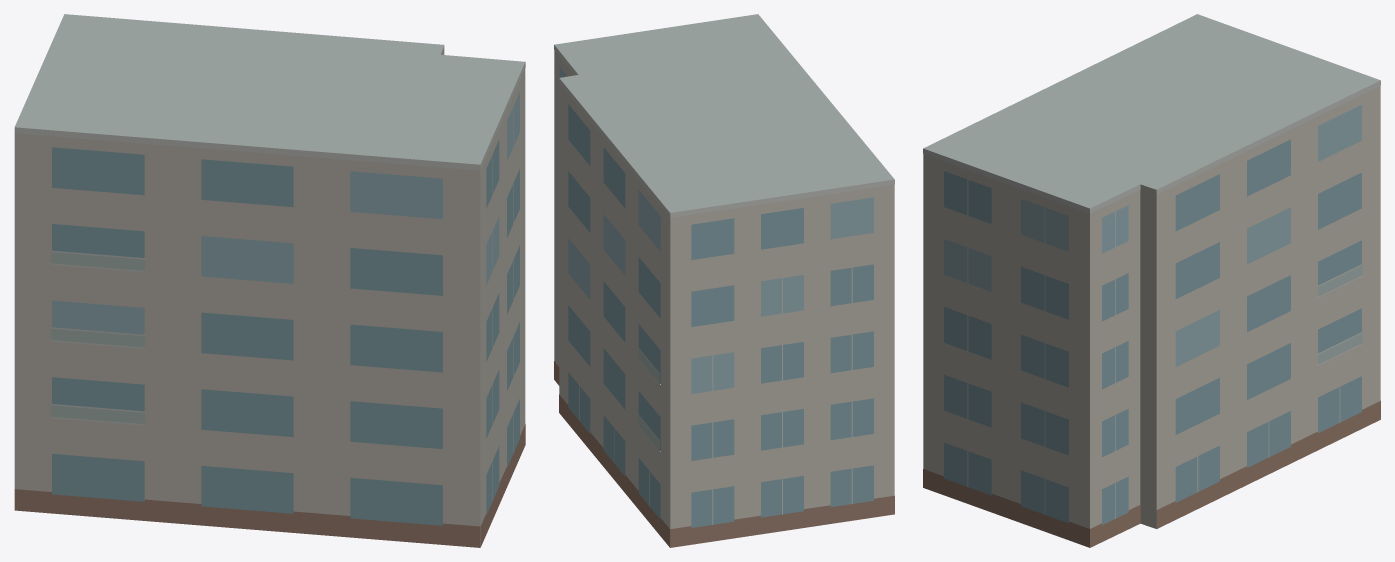
File: survey-upis-32763234.glb
The picture shows the model from 3 angles, left to right: view 1: azimuth 30°, elevation 25°; view 2: azimuth 150°, elevation 25°; view 3: azimuth 270°, elevation 25°; orthographic projection. The views are drawn at different scales.
Parts seen in each view (by area): view 1: survey-upis-32763234.tmp; view 2: survey-upis-32763234.tmp; view 3: survey-upis-32763234.tmp.
Boxes of the visible parts, bbox=[...] form: survey-upis-32763234.tmp: bbox=[14, 14, 525, 547]; survey-upis-32763234.tmp: bbox=[554, 14, 894, 547]; survey-upis-32763234.tmp: bbox=[923, 14, 1380, 547].
Bounding box in the file's own units: 19.38 × 15.75 × 19.26.
